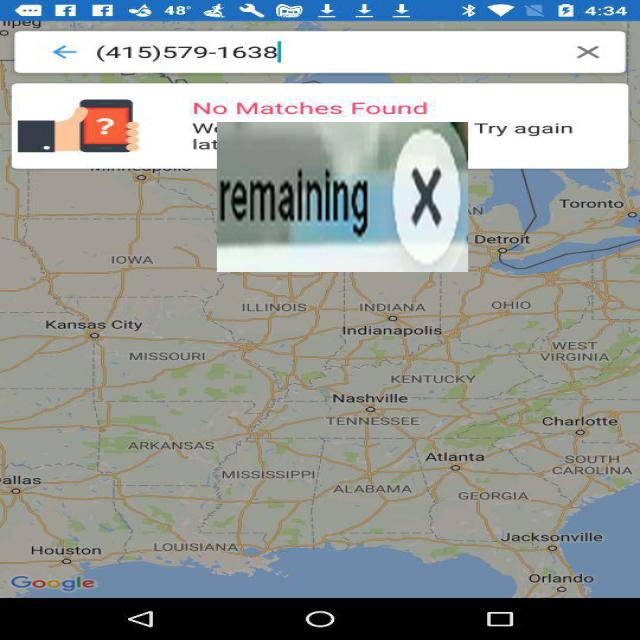misdirection: (217, 122, 468, 272)
